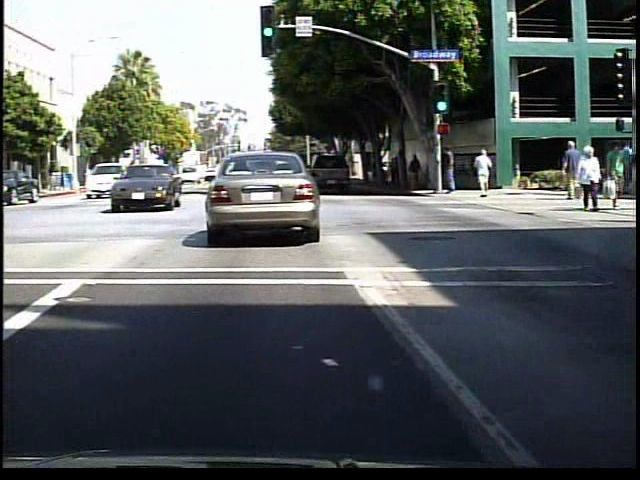person: (577, 144, 608, 212), (606, 142, 631, 209), (564, 140, 589, 203), (473, 146, 497, 201), (444, 143, 465, 201), (411, 151, 428, 191), (395, 155, 409, 190)
